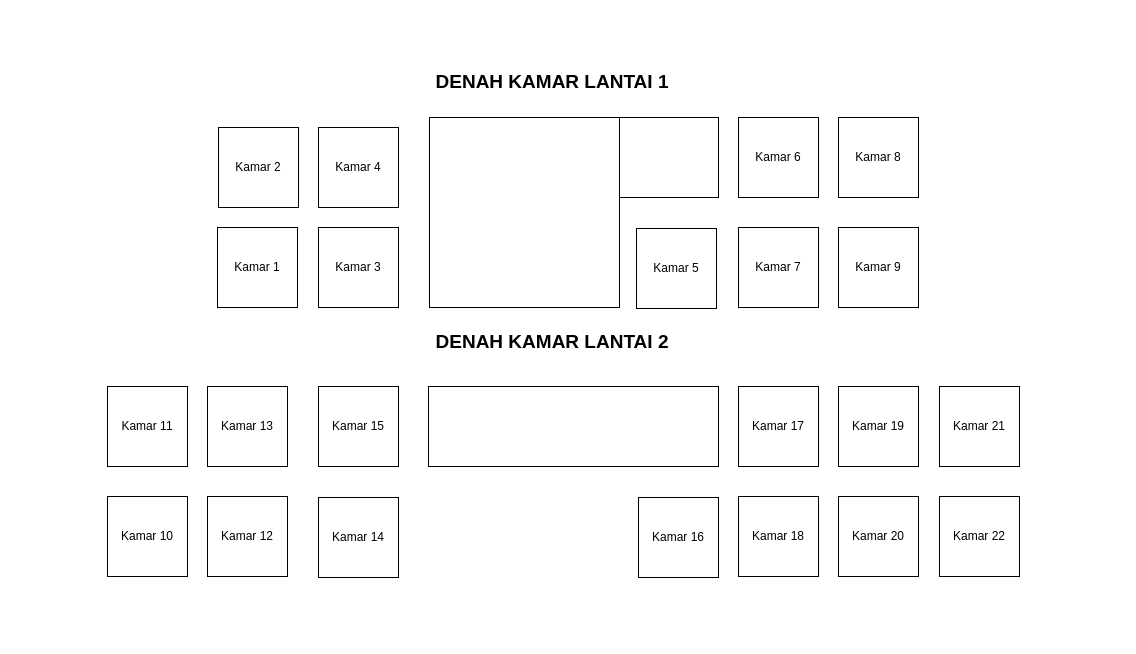
This 1136x654 diagram has some shape labels left out. Each missing label, with the box of its shape:
KAMAR TAMU: (428, 386, 718, 466)
RUANG TV: (428, 116, 620, 308)
